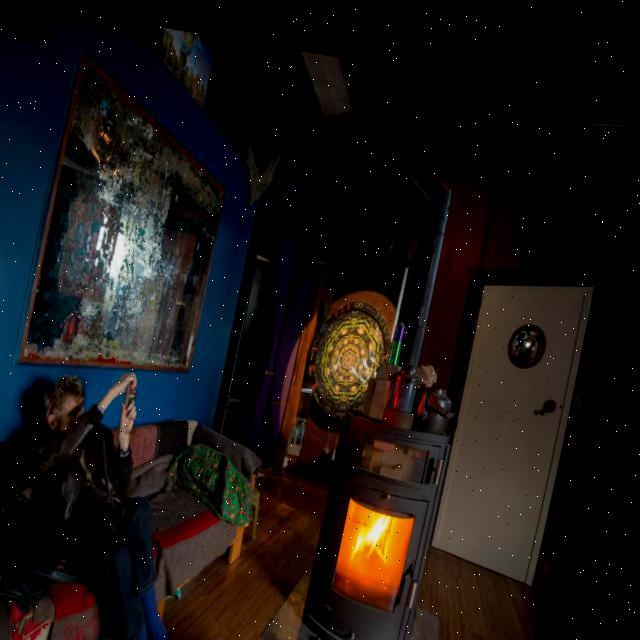Fire: (357, 488, 428, 567)
